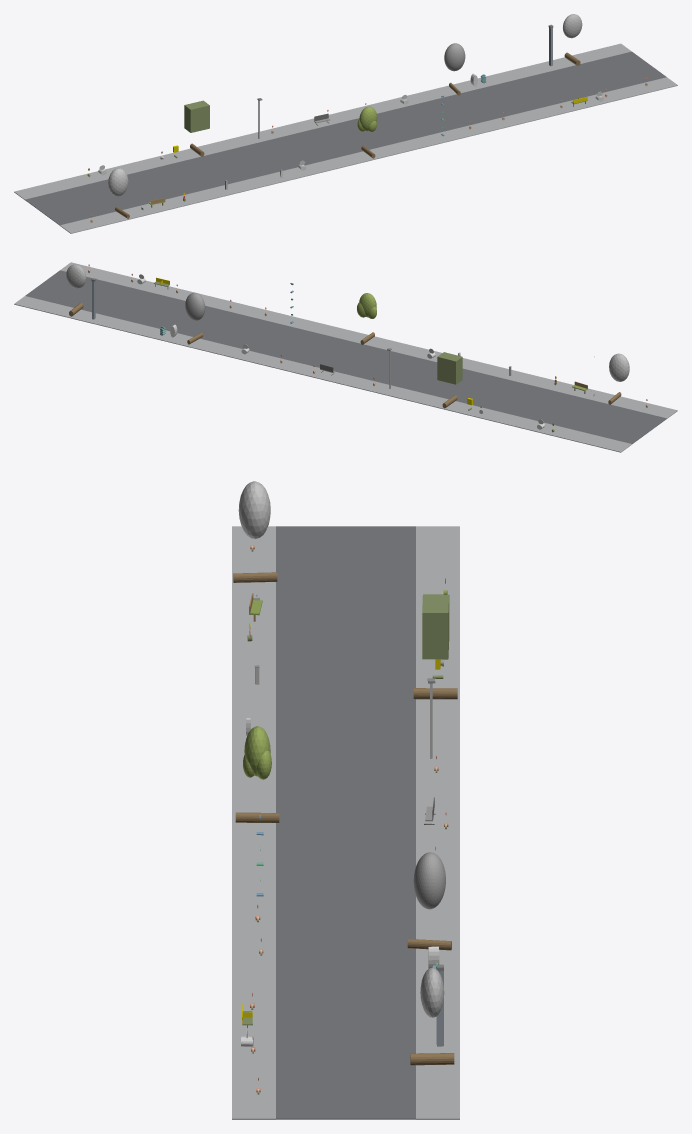
3 renders of one model, top to bottom at view 1: azimuth 30°, elevation 25°; view 2: azimuth 150°, elevation 25°; view 3: azimuth 270°, elevation 25°, orthographic. The views are drawn at different scales.
Visible parts, largest first — view 1: road_slab, sidewalk_left, sidewalk_right, inst_0013, inst_0012, inst_0015, inst_0014, inst_0016; view 2: road_slab, sidewalk_right, sidewalk_left, inst_0013, inst_0012, inst_0015, inst_0014, inst_0016; view 3: road_slab, sidewalk_left, sidewalk_right, inst_0013, inst_0012, inst_0015, inst_0014, inst_0016.
Boxes of the visible parts, x1,y1,x2,y2 form: road_slab: [25, 51, 666, 225]; sidewalk_left: [60, 77, 677, 233]; sidewalk_right: [14, 43, 631, 199]; inst_0013: [184, 100, 209, 156]; inst_0012: [108, 168, 129, 218]; inst_0015: [444, 43, 465, 95]; inst_0014: [357, 106, 377, 158]; inst_0016: [563, 14, 582, 65]; road_slab: [25, 270, 666, 444]; sidewalk_right: [14, 296, 631, 452]; sidewalk_left: [60, 262, 677, 418]; inst_0013: [437, 352, 462, 408]; inst_0012: [608, 353, 629, 404]; inst_0015: [185, 292, 205, 344]; inst_0014: [357, 293, 376, 344]; inst_0016: [66, 264, 86, 316]; road_slab: [276, 526, 415, 1119]; sidewalk_left: [232, 526, 275, 1119]; sidewalk_right: [416, 526, 459, 1119]; inst_0013: [413, 594, 457, 699]; inst_0012: [233, 481, 277, 582]; inst_0015: [407, 852, 451, 950]; inst_0014: [235, 726, 279, 822]; inst_0016: [410, 967, 454, 1065].
Size of the model in its own units: 80 by 6.08 by 13.
